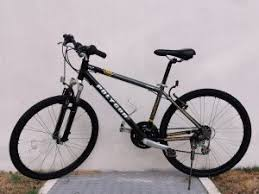bicycle: (6, 29, 256, 181)
